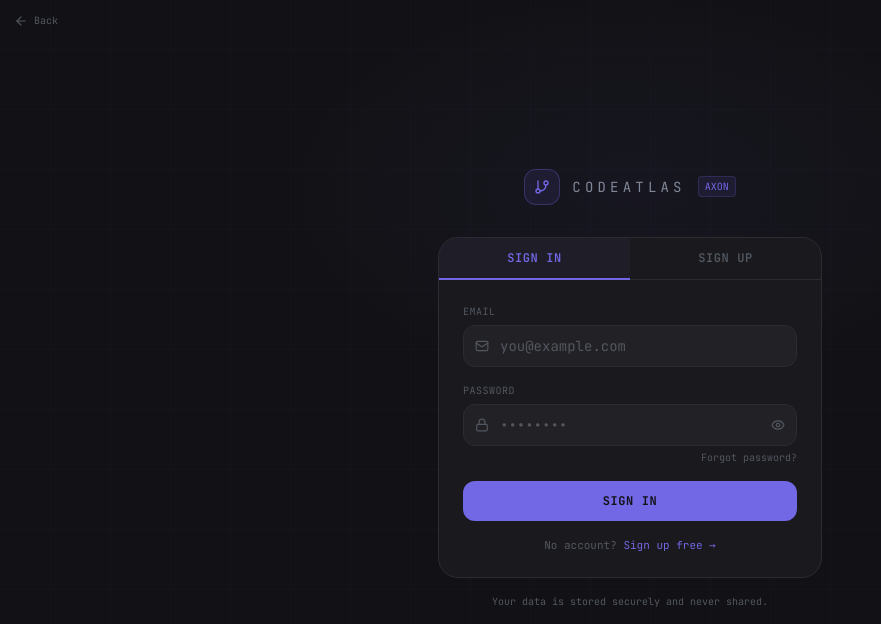
Auth page › clicking "Forgot password?" shows the RESET PASSWORD header
Click the button "Forgot password?" at (749, 457), box [701, 450, 797, 465]
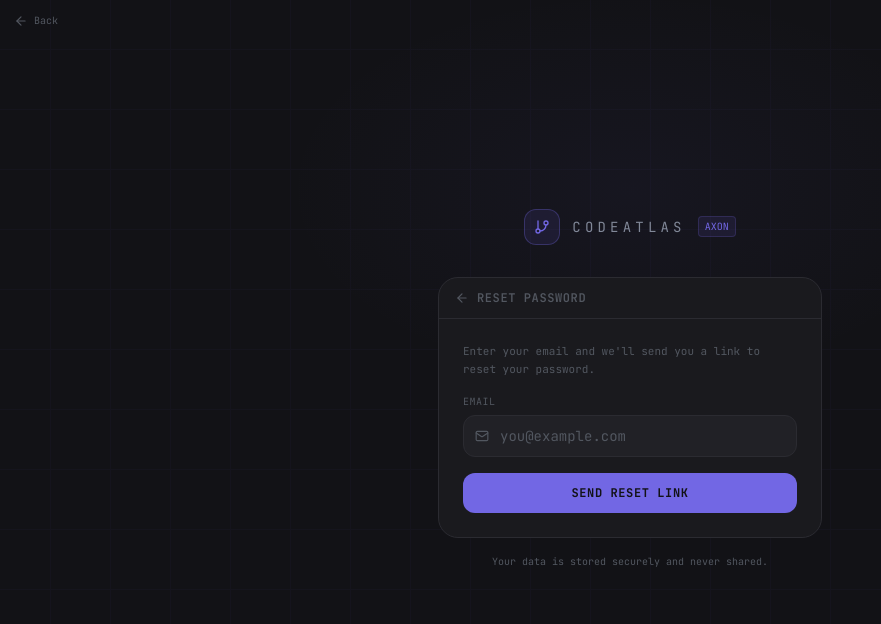
Check: the text "RESET PASSWORD" is shown, box [477, 290, 586, 306]
